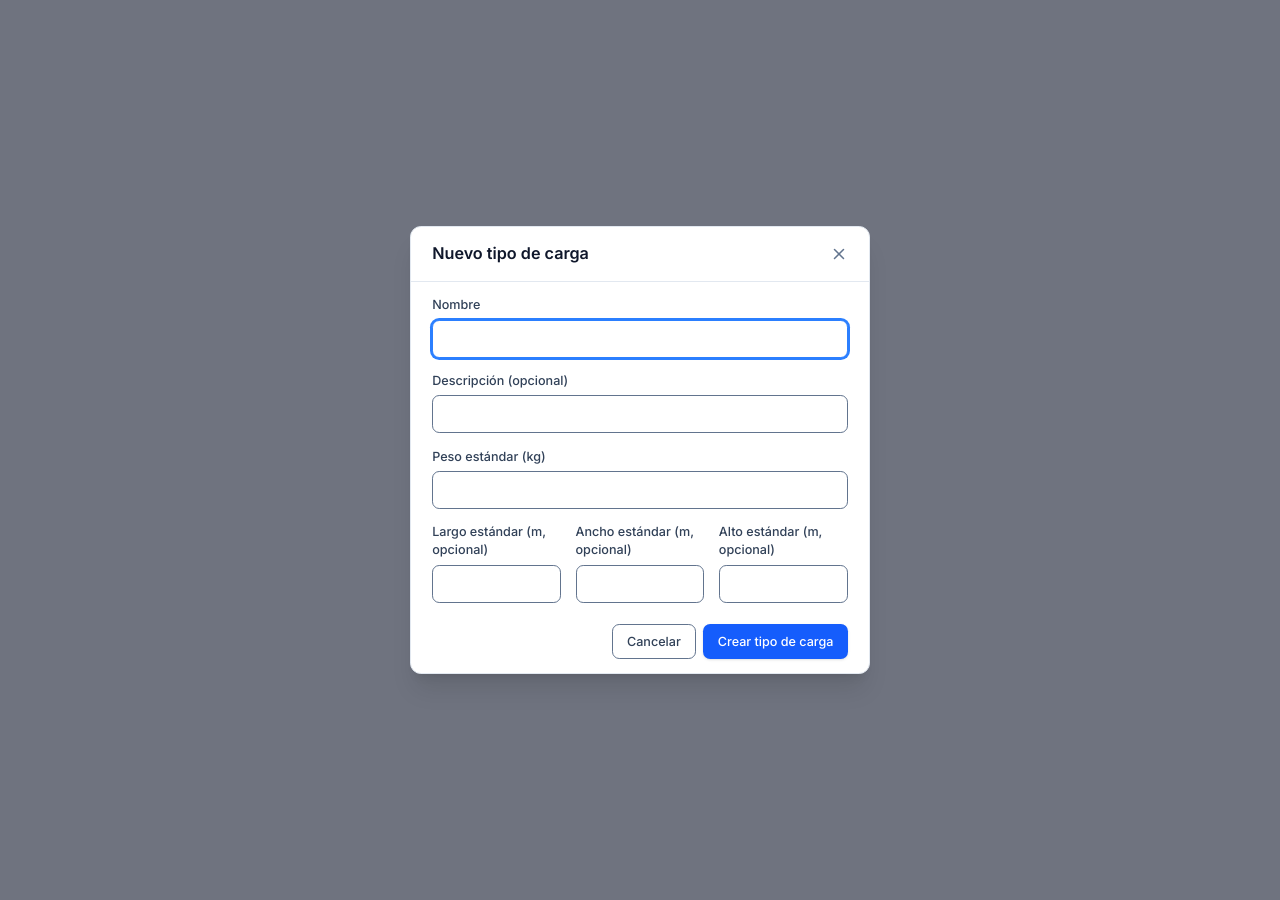
CargoTypeCreateModal › no deja enviar un cero escrito a mano en una dimensión
This screenshot has width=1280, height=900.
Type "GRANEL" into the field labelled "Nombre" at (640, 339), box [432,320,848,358]
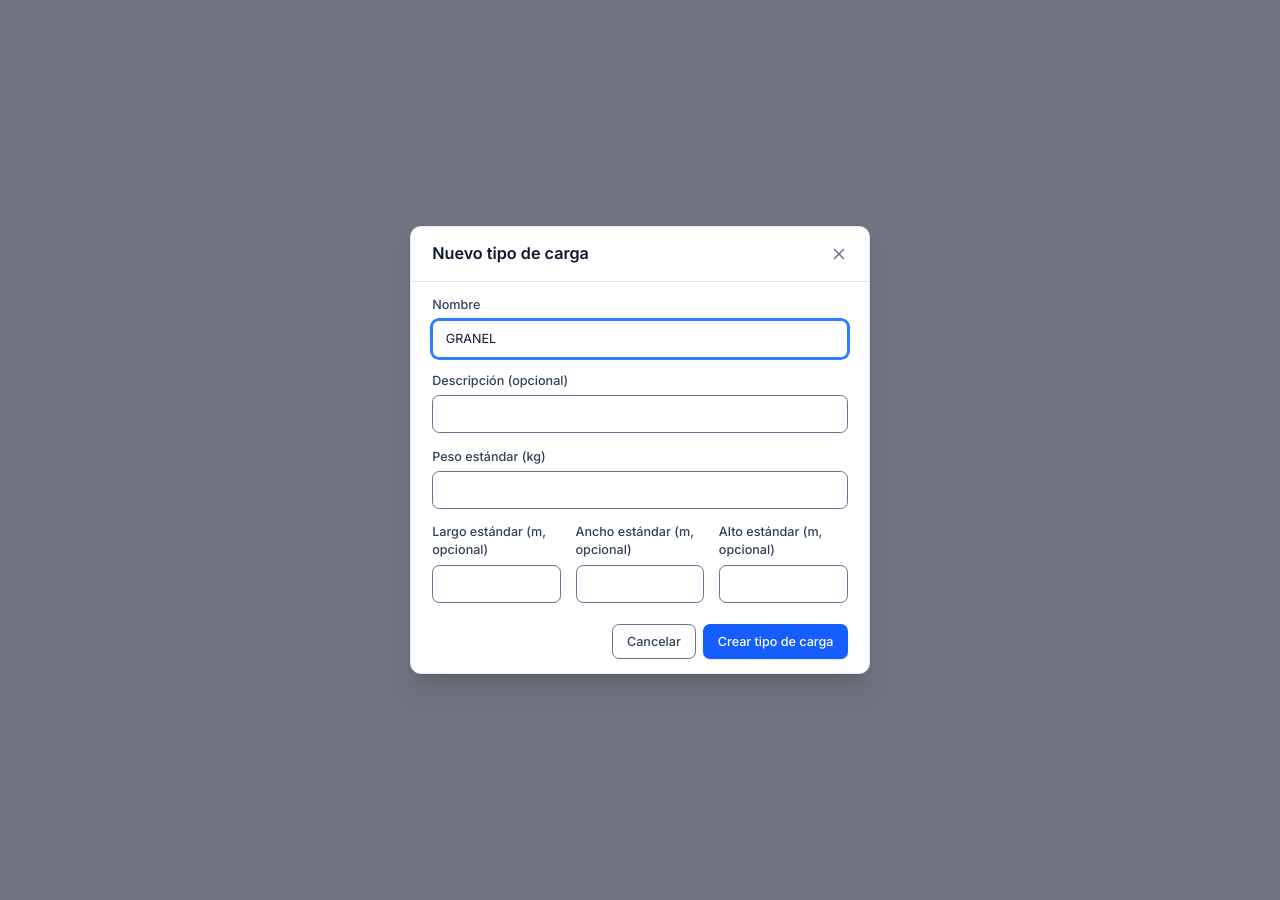
Type "1000" into the number field labelled "Peso estándar (kg)" at (640, 490), box [432,471,848,509]
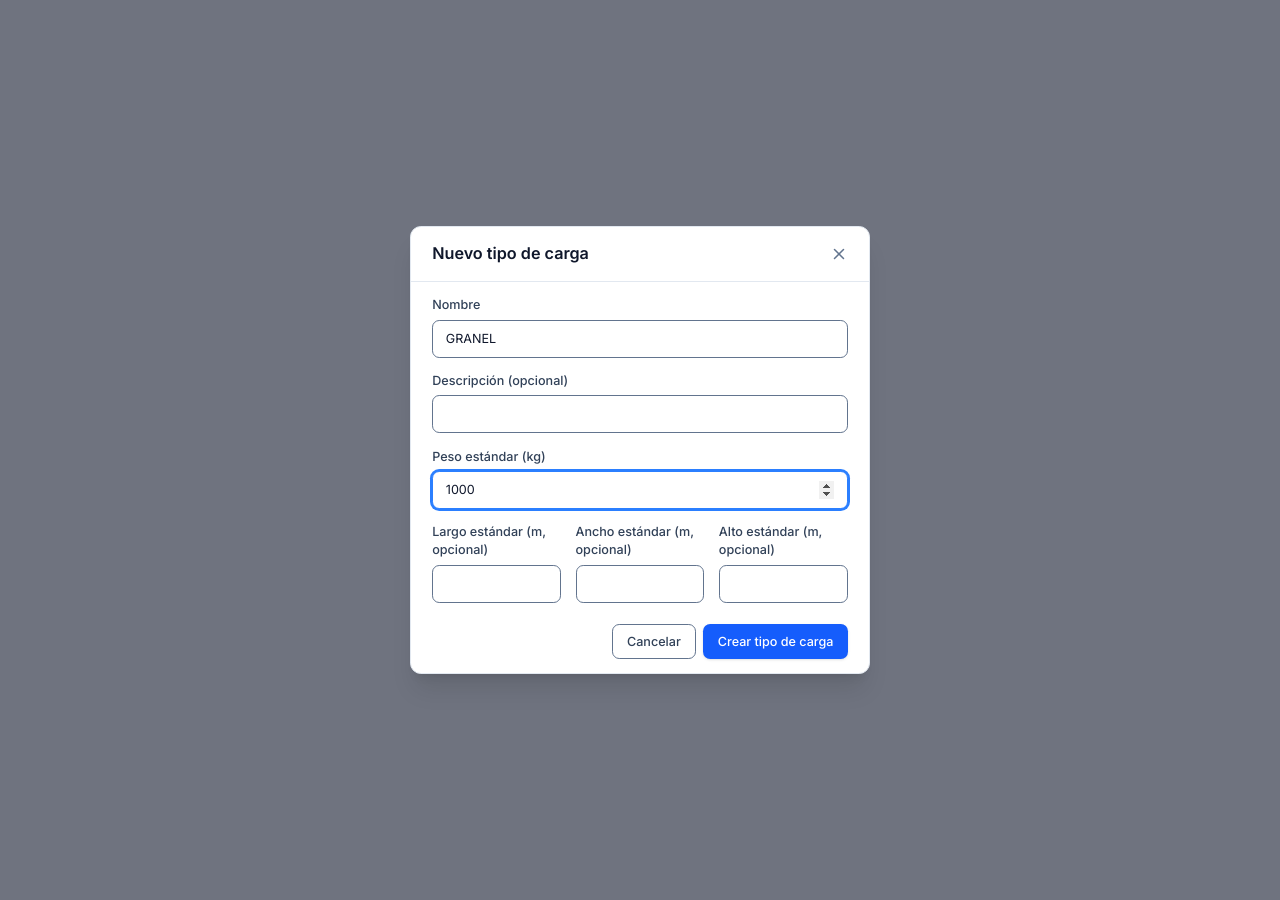
Type "0" into the number field labelled "Largo estándar (m, opcional)" at (497, 584), box [432,565,561,603]
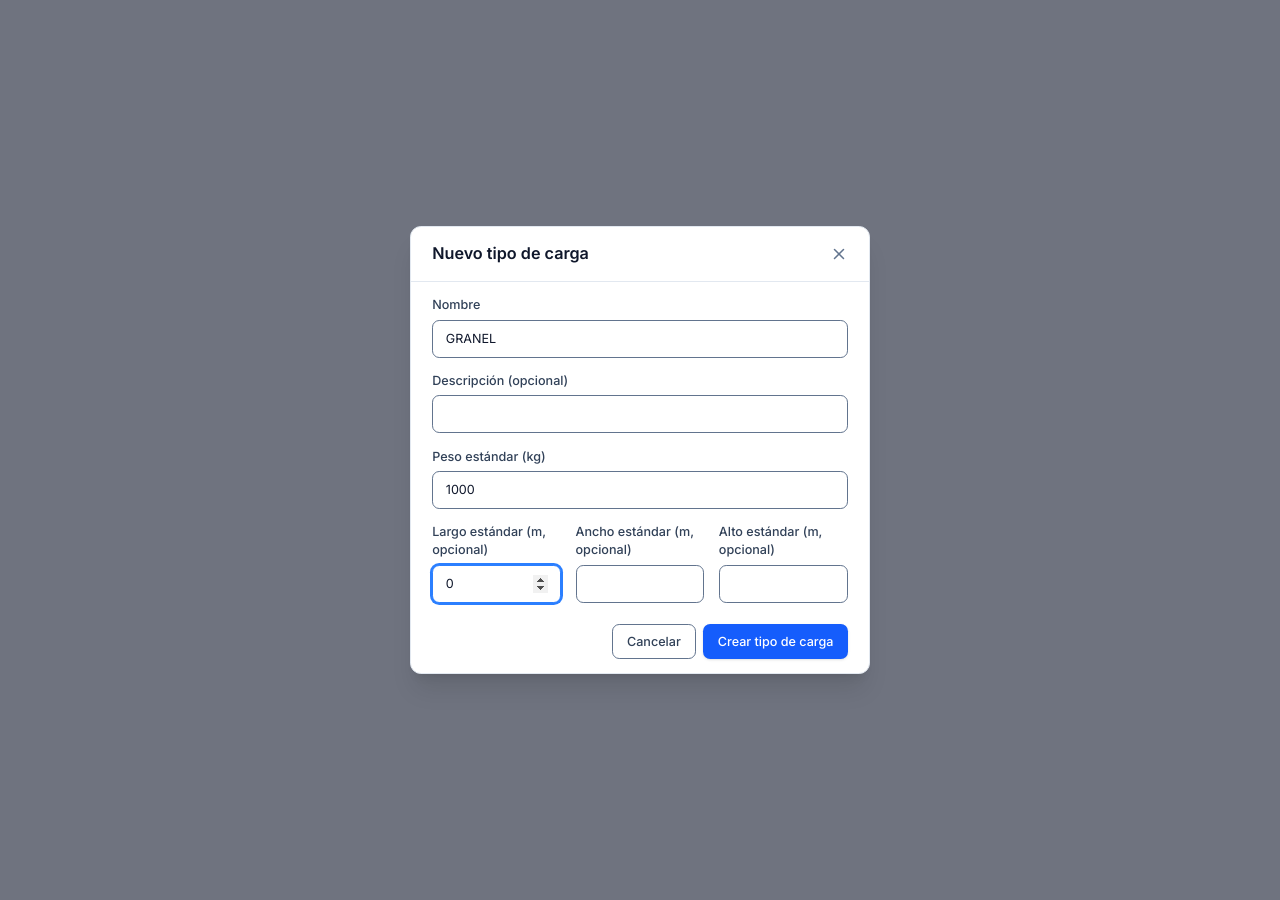
Click the button "Crear tipo de carga" at (776, 642), box [703,624,848,659]
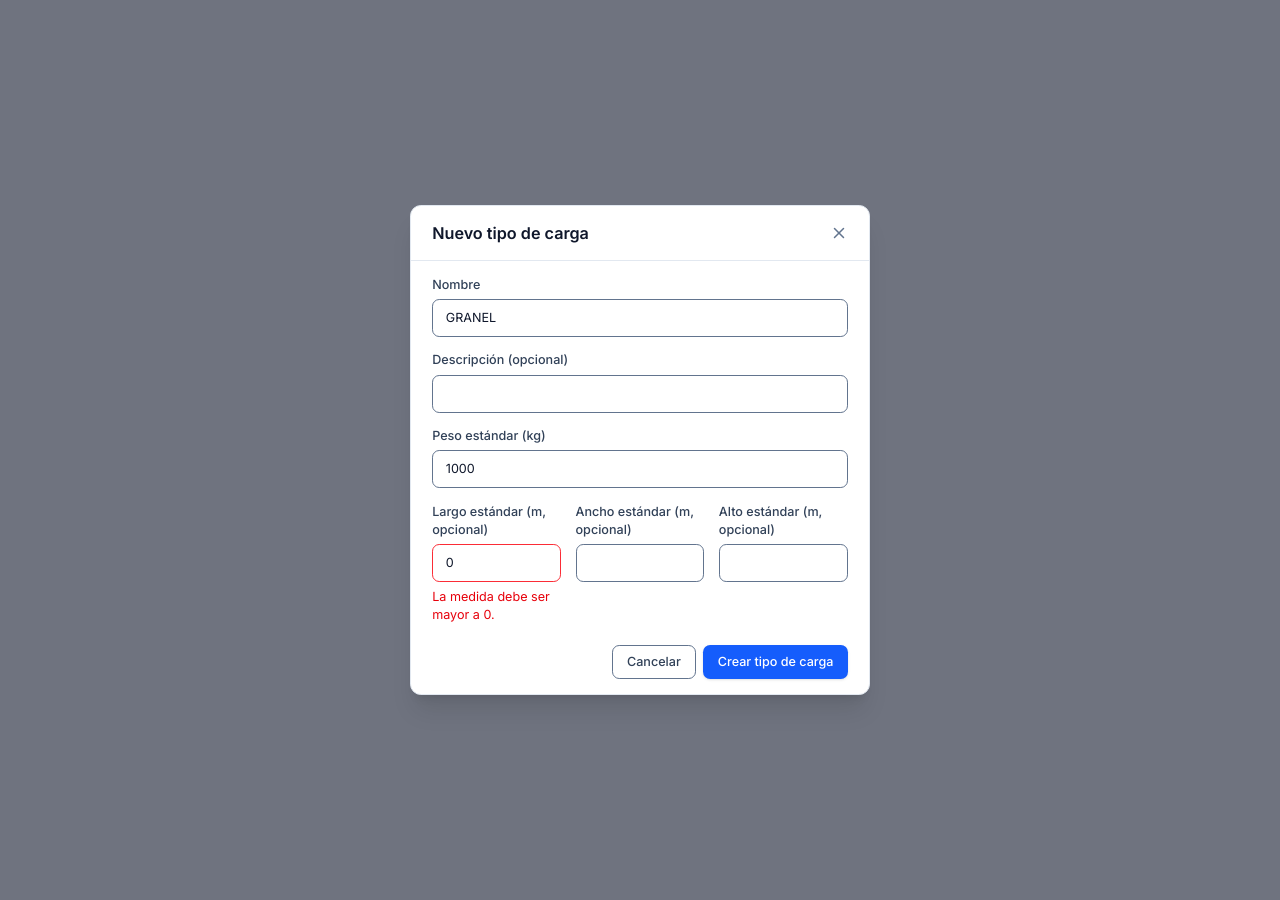
Check: the text "La medida debe ser mayor a 0." is shown, box [432,588,561,624]
